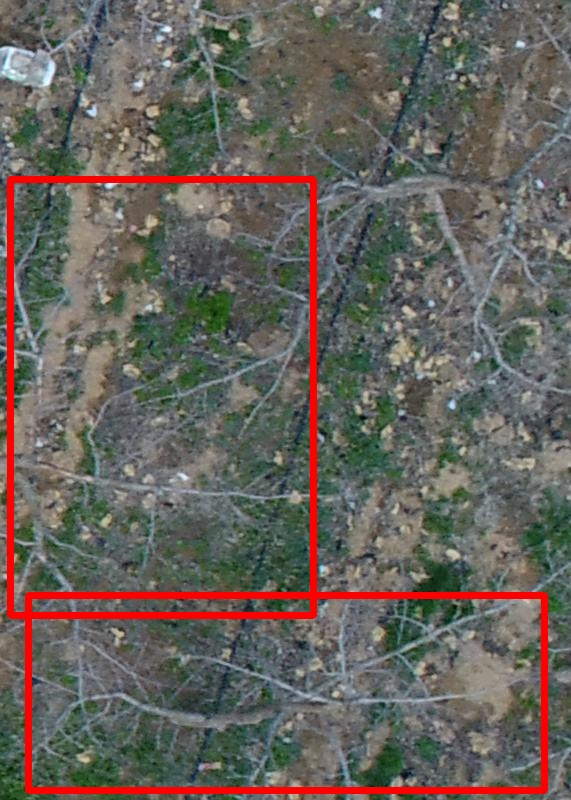apple: (10, 179, 313, 615), (28, 595, 544, 790)
